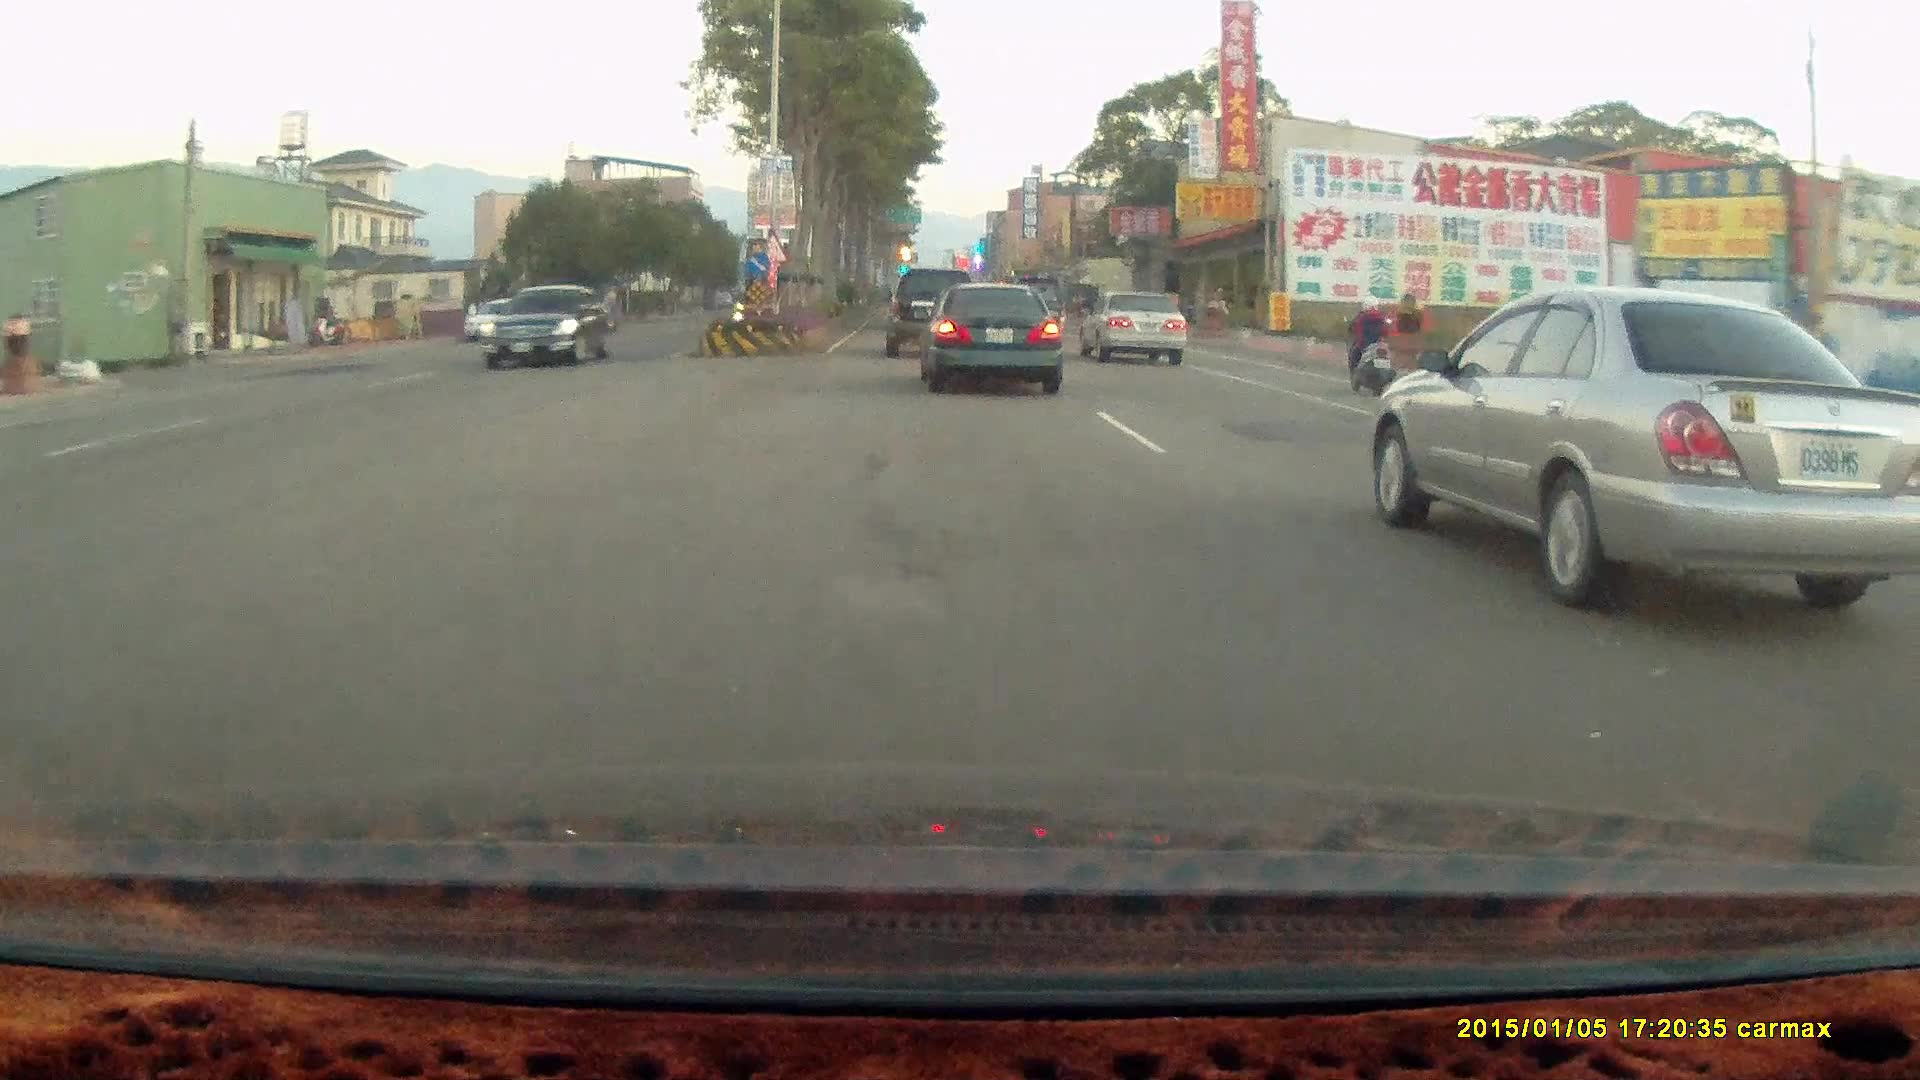rider: (1334, 286, 1407, 405), (1343, 294, 1394, 397)
vehicle: (1368, 288, 1920, 608), (921, 284, 1067, 402), (912, 285, 1062, 399), (477, 283, 616, 374), (478, 283, 610, 369), (883, 266, 982, 363), (1078, 288, 1187, 366), (884, 267, 977, 356), (1082, 295, 1191, 368), (463, 304, 546, 351), (463, 295, 545, 339)
